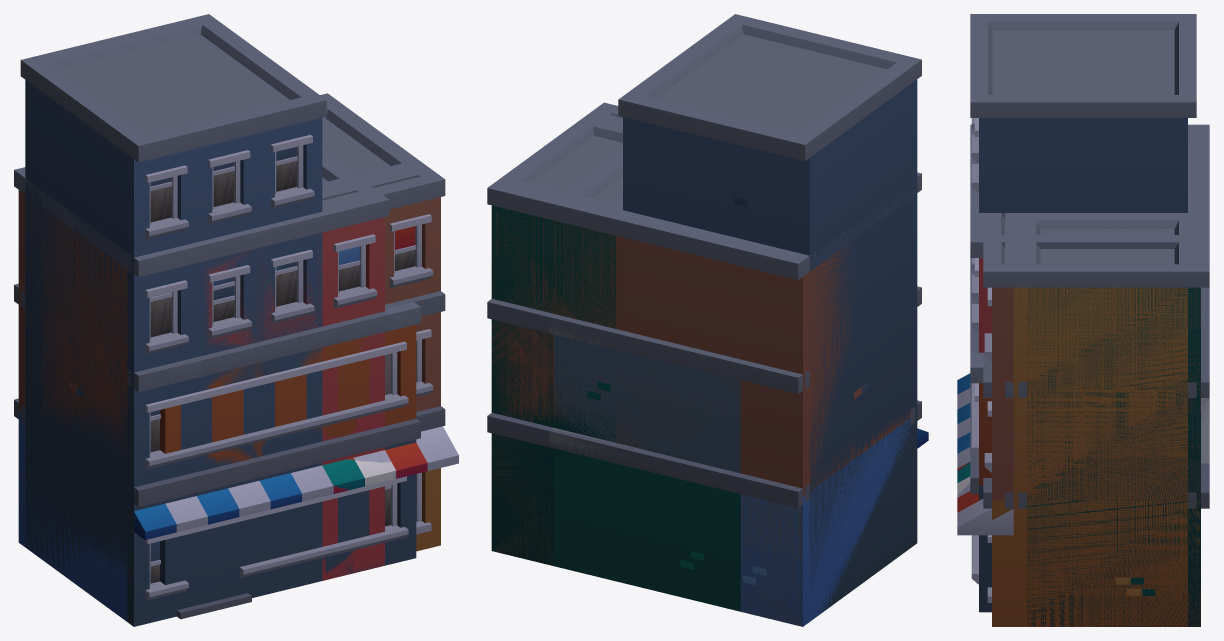
Rendered from neon-diorama.glb.
The picture shows the model from 3 angles, left to right: view 1: azimuth 30°, elevation 25°; view 2: azimuth 150°, elevation 25°; view 3: azimuth 270°, elevation 25°; orthographic projection. The views are drawn at different scales.
Parts seen in each view (by area): view 1: building_H_withoutBase, building_G_withoutBase, building_B_withoutBase, building_C_withoutBase, building_E_withoutBase, building_A_withoutBase; view 2: building_G_withoutBase, building_H_withoutBase, building_E_withoutBase, building_A_withoutBase, building_C_withoutBase; view 3: building_H_withoutBase, building_G_withoutBase, building_E_withoutBase, building_C_withoutBase, building_B_withoutBase, building_A_withoutBase.
Boxes of the visible parts, box(x1,y1,x2,y2) form: building_H_withoutBase: box(20, 14, 431, 626); building_G_withoutBase: box(14, 93, 426, 621); building_B_withoutBase: box(160, 302, 420, 619); building_C_withoutBase: box(197, 151, 389, 580); building_E_withoutBase: box(14, 99, 458, 551); building_A_withoutBase: box(239, 459, 395, 516); building_G_withoutBase: box(487, 121, 928, 626); building_H_withoutBase: box(494, 14, 921, 616); building_E_withoutBase: box(487, 102, 808, 626); building_A_withoutBase: box(549, 318, 740, 611); building_C_withoutBase: box(566, 149, 746, 242); building_H_withoutBase: box(970, 14, 1196, 626); building_G_withoutBase: box(957, 124, 1209, 626); building_E_withoutBase: box(957, 124, 1209, 626); building_C_withoutBase: box(970, 154, 1196, 558); building_B_withoutBase: box(970, 352, 991, 612); building_A_withoutBase: box(957, 398, 1209, 495).
Bounding box in the file's own units: 0.285 × 0.4189 × 0.2059.
4 materials, 4 textured.
